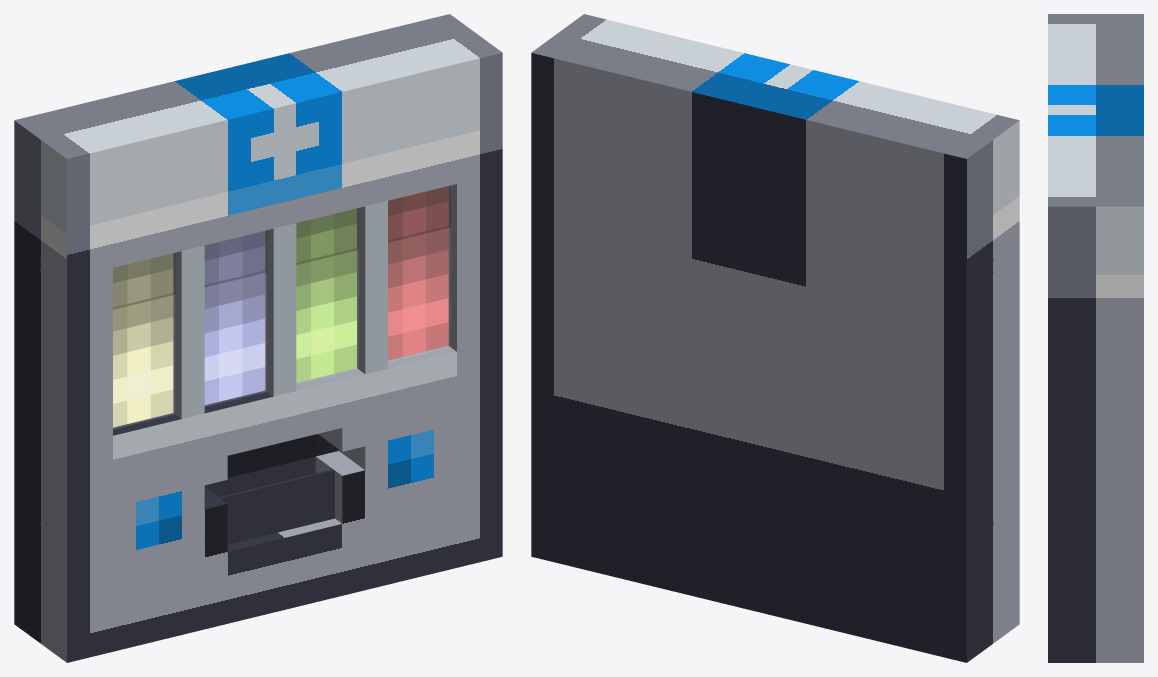
The model's file is wall_healer_level_4.glb.
3 renders of one model, left to right at view 1: azimuth 30°, elevation 25°; view 2: azimuth 150°, elevation 25°; view 3: azimuth 270°, elevation 25°, orthographic. The views are drawn at different scales.
Visible parts, largest first — view 1: Continuous_Medical_Housing, Bar_Shadow_Overlay, Syriniver_Glass, Aiuri_Reservoir, Libital_Glass, Blood_Glass, Aiuri_Glass, Syriniver_Reservoir, Blood_Reservoir, Libital_Reservoir, Service_Cover; view 2: Continuous_Medical_Housing; view 3: Continuous_Medical_Housing.
Boxes of the visible parts, x1=… form: Continuous_Medical_Housing: x1=14, y1=14, x2=502, y2=662; Bar_Shadow_Overlay: x1=113, y1=186, x2=450, y2=309; Syriniver_Glass: x1=296, y1=208, x2=358, y2=383; Aiuri_Reservoir: x1=204, y1=231, x2=265, y2=404; Libital_Glass: x1=113, y1=253, x2=174, y2=428; Blood_Glass: x1=388, y1=186, x2=449, y2=361; Aiuri_Glass: x1=205, y1=231, x2=266, y2=406; Syriniver_Reservoir: x1=296, y1=208, x2=356, y2=382; Blood_Reservoir: x1=388, y1=186, x2=448, y2=360; Libital_Reservoir: x1=113, y1=253, x2=173, y2=427; Service_Cover: x1=219, y1=469, x2=334, y2=544; Continuous_Medical_Housing: x1=531, y1=14, x2=1019, y2=662; Continuous_Medical_Housing: x1=1048, y1=14, x2=1143, y2=662.
Size of the model in its own units: 0.5344 by 0.5906 by 0.1125.
7 materials, 7 textured.
